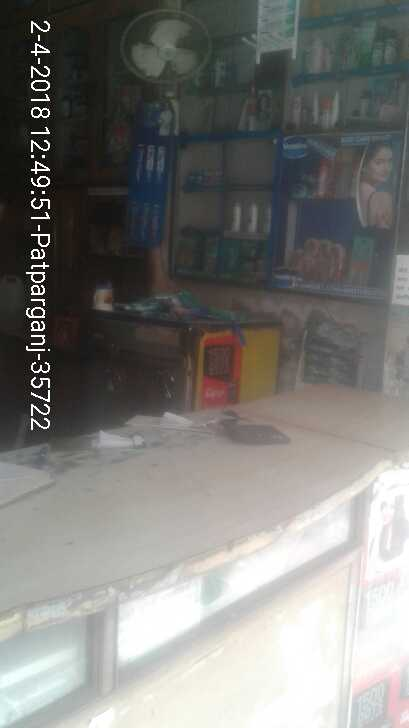oralcare: (126, 200, 139, 239), (154, 146, 167, 182), (151, 200, 162, 239), (139, 200, 148, 240), (135, 144, 143, 183), (146, 145, 154, 182)
vicks: (206, 170, 225, 185), (186, 170, 196, 186), (197, 169, 205, 186)
